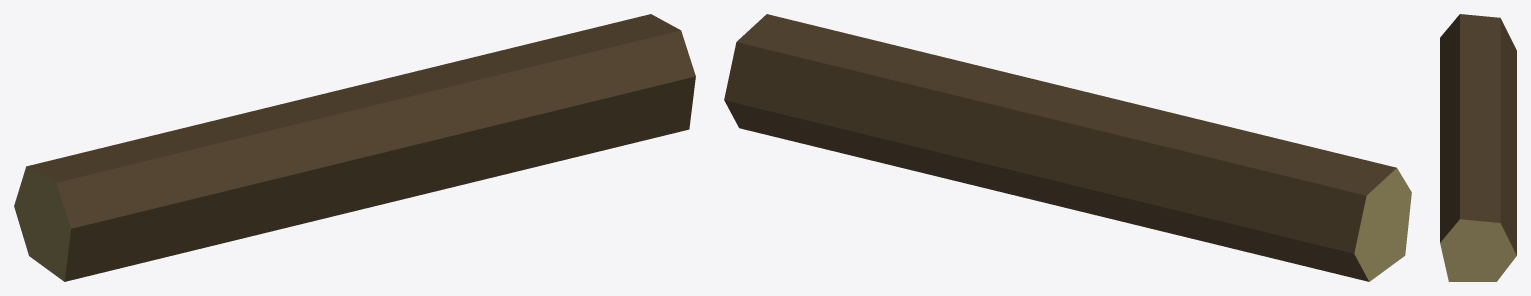
3 views of the same model, side by side, from view 1: azimuth 30°, elevation 25°; view 2: azimuth 150°, elevation 25°; view 3: azimuth 270°, elevation 25° (orthographic). The views are drawn at different scales.
Visible parts, largest first — view 1: 木材_pCylinder52; view 2: 木材_pCylinder52; view 3: 木材_pCylinder52.
Boxes of the visible parts, x1=… form: 木材_pCylinder52: x1=14, y1=14, x2=695, y2=281; 木材_pCylinder52: x1=724, y1=14, x2=1411, y2=281; 木材_pCylinder52: x1=1440, y1=14, x2=1516, y2=281.
Bounding box in the file's own units: 439 × 62.65 × 69.57.
